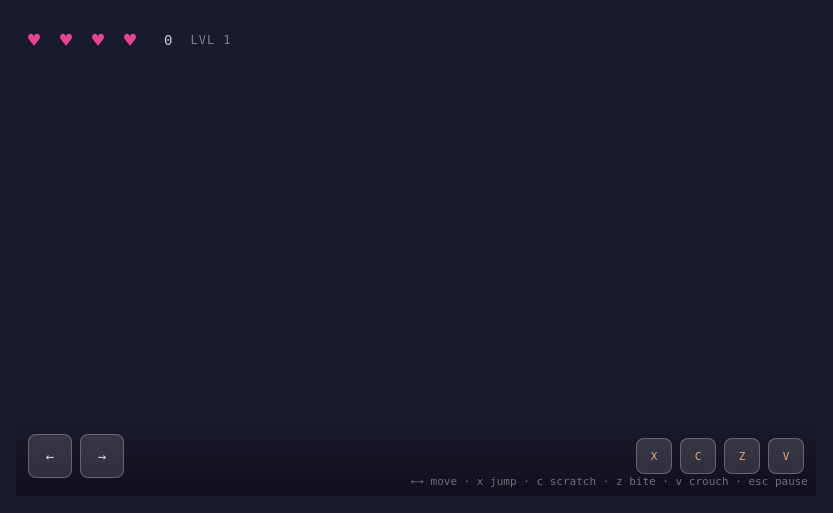
Test: GameScene › dismisses PAUSED when overlay is clicked
The width and height of the screenshot is (833, 513).
Press Escape
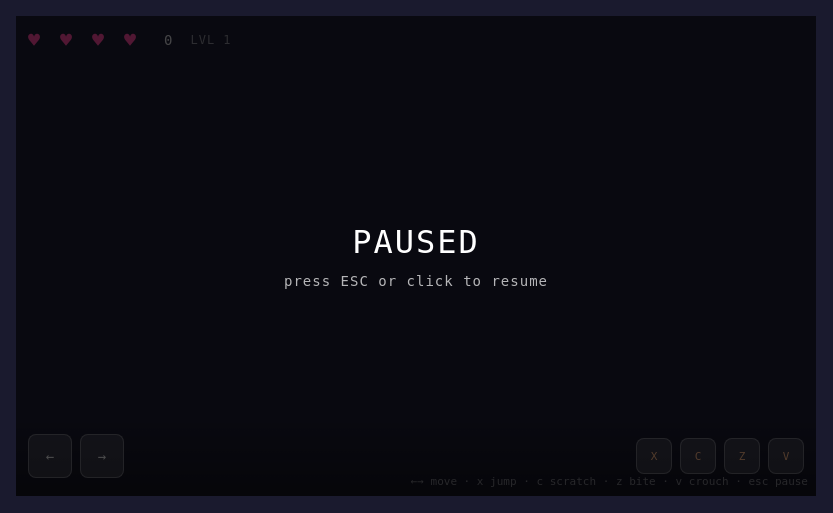
Click the text "PAUSED": (416, 256) [16,16,816,496]
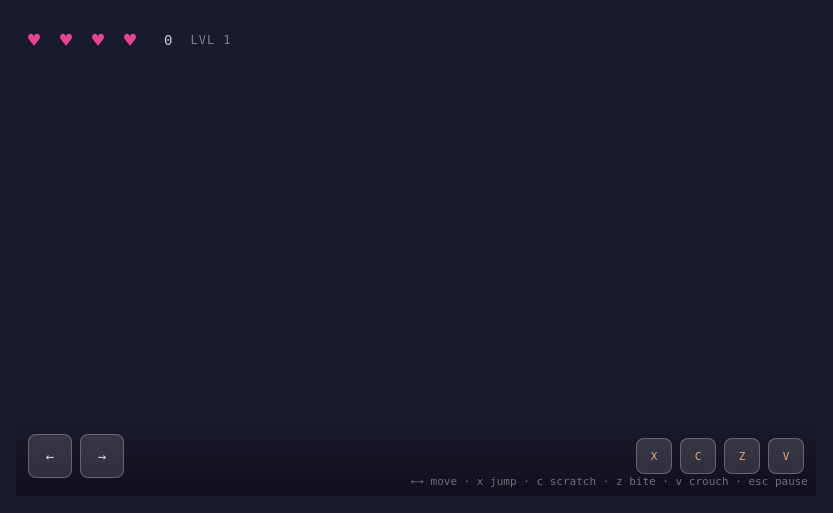
Expected: the text "PAUSED" is gone
